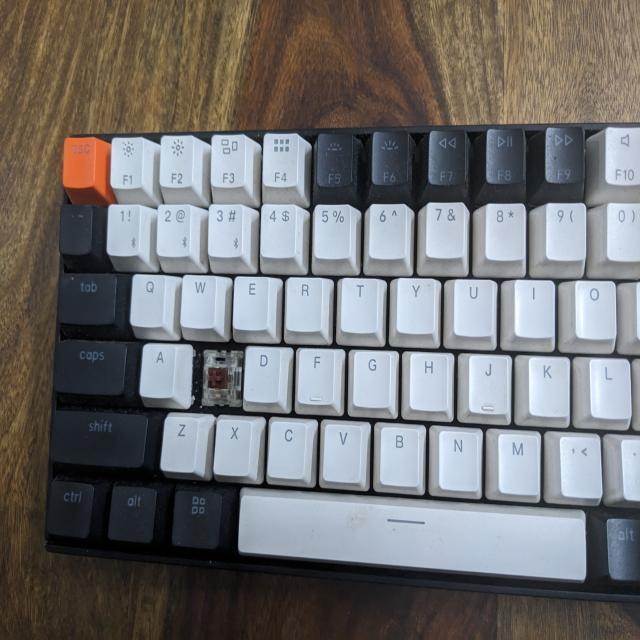key-switch: (204, 351, 243, 404)
